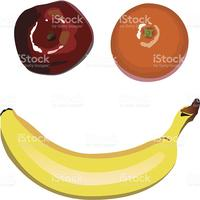apple: (6, 2, 103, 80)
banane: (1, 96, 199, 196)
orange: (106, 6, 200, 84)
